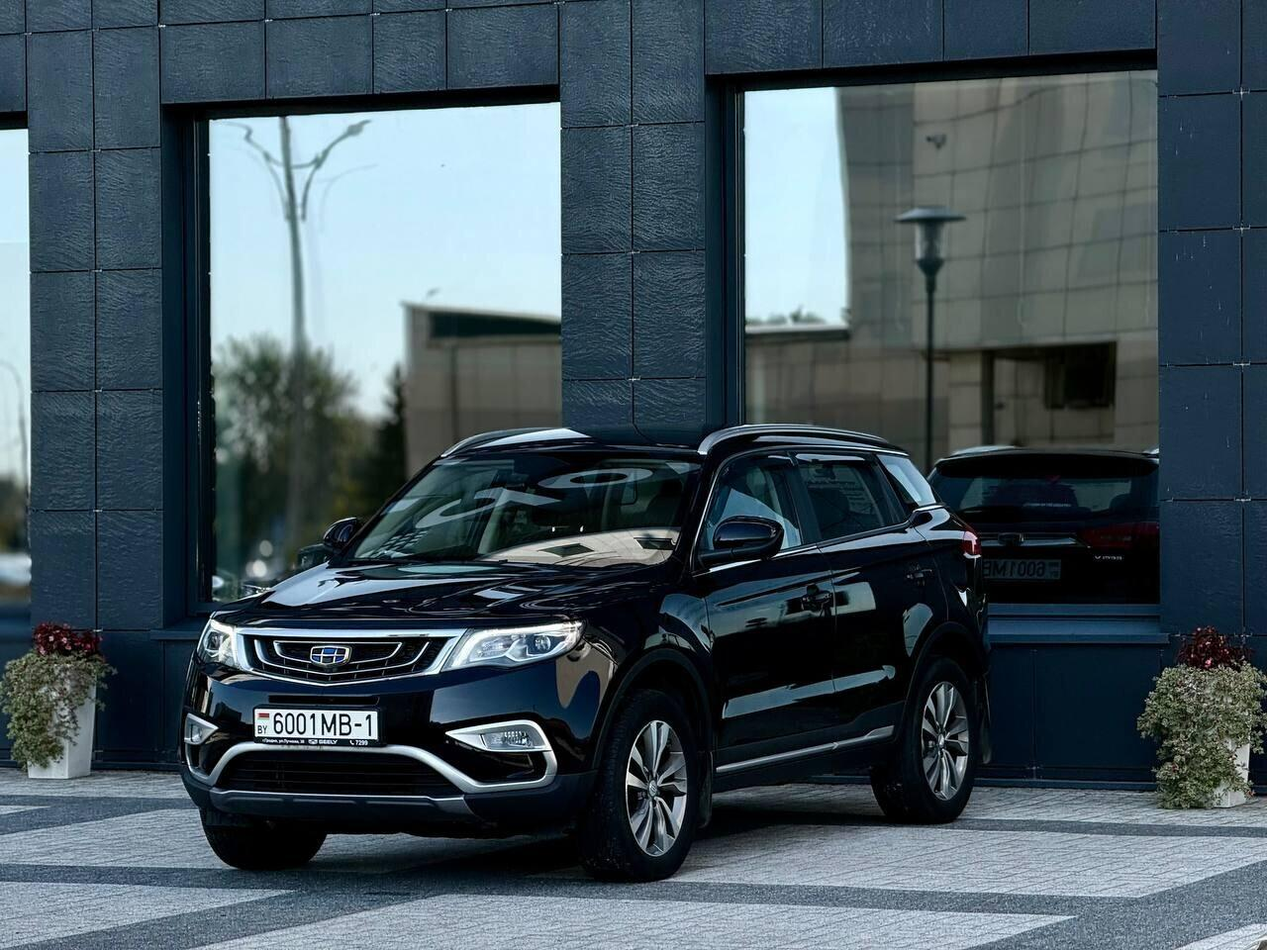Atlas_2016-2023: (177, 423, 994, 882)
